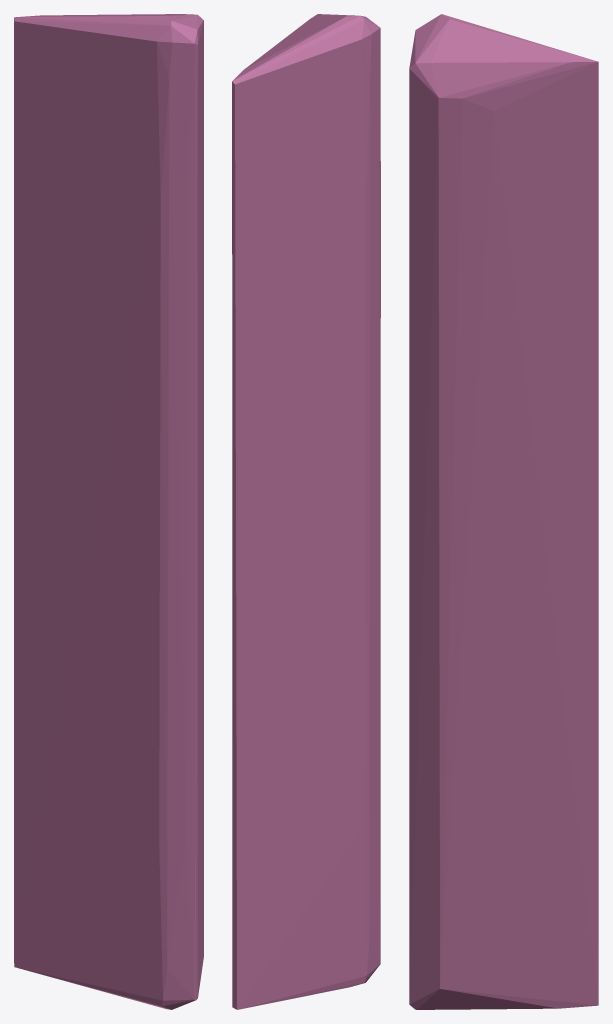
Rendered from electrical_cable_a01.glb.
3 views of the same model, side by side, from view 1: azimuth 90°, elevation 25°; view 2: azimuth 150°, elevation 25°; view 3: azimuth 270°, elevation 25° (orthographic). The views are drawn at different scales.
Visible parts, largest first — view 1: geometry_0; view 2: geometry_0; view 3: geometry_0.
Part boxes in pixels (x1,y1,x2,y2): geometry_0: (14,14,203,1009); geometry_0: (232,14,380,1009); geometry_0: (409,14,598,1009).
Bounding box in the file's own units: 0.0411 × 0.4791 × 0.083.
